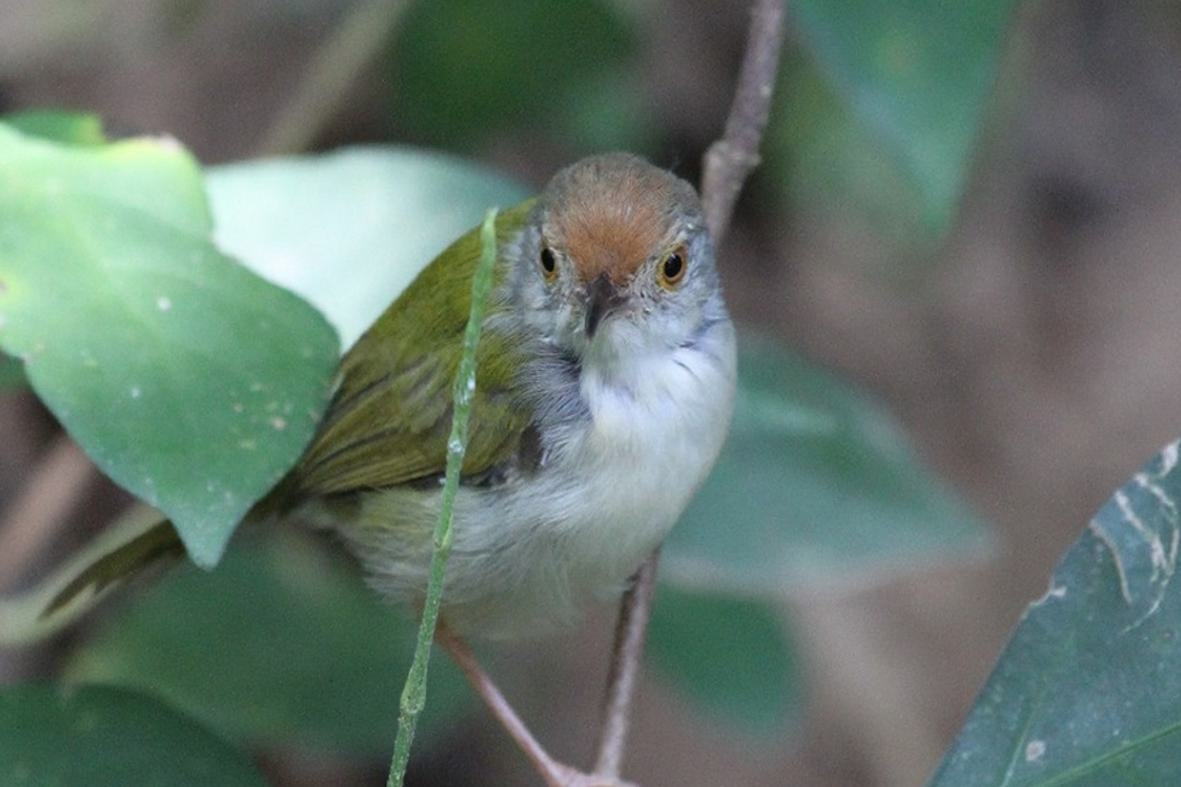tailorbird: (278, 148, 738, 673)
